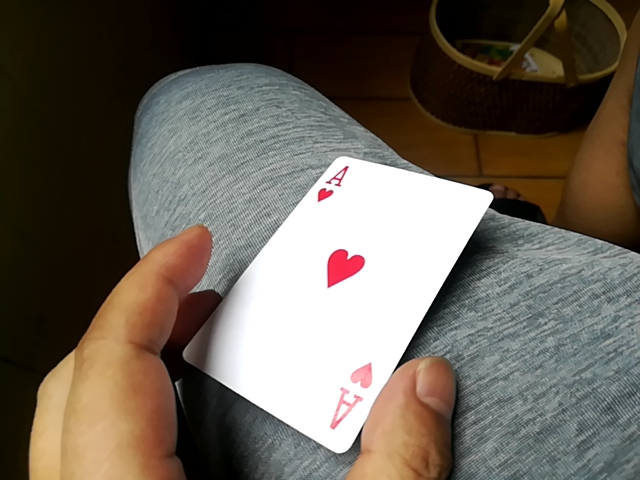hx a: (206, 157, 489, 457)
